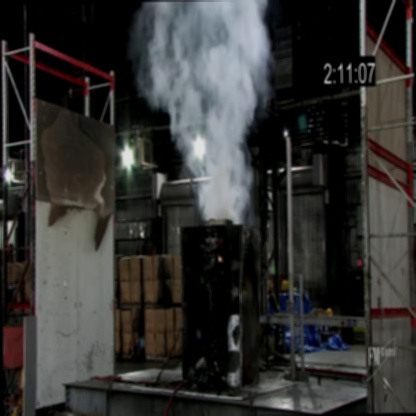smoke: (147, 0, 261, 221)
